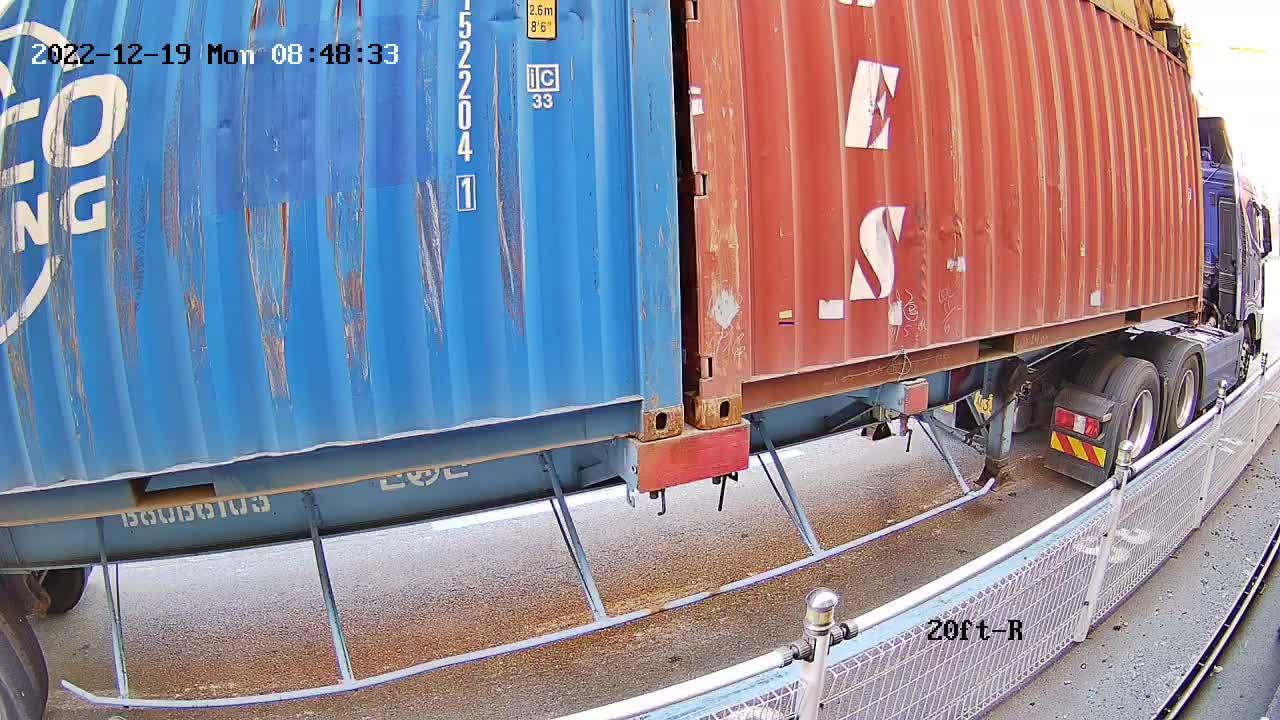Cone: (701, 423, 750, 480), (639, 439, 684, 492)
Hole_L: (701, 350, 775, 430)
Hole_R: (593, 361, 683, 443)
Tire: (1117, 365, 1162, 476), (1167, 354, 1201, 441)
